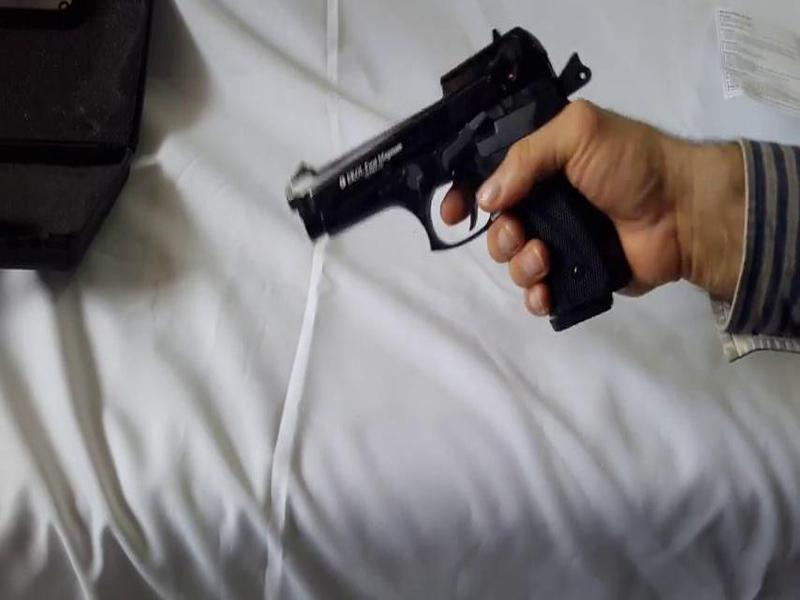Pistola: (263, 31, 640, 341)
